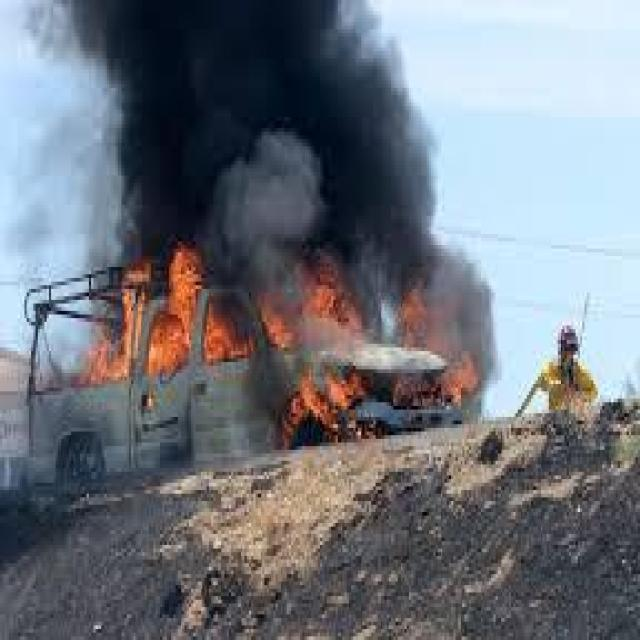fire: (50, 196, 485, 466)
other: (528, 332, 608, 432)
smoke: (80, 2, 440, 242)
